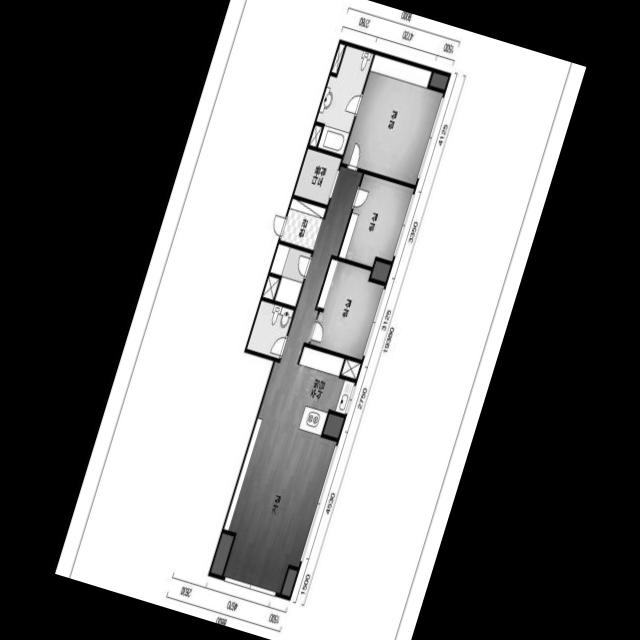background: (54, 0, 586, 640)
space_bedroom: (342, 54, 443, 184), (309, 258, 384, 359), (339, 173, 414, 266)
space_front: (280, 198, 326, 250)
space_kitchen: (279, 346, 354, 435)
space_living_room: (223, 166, 362, 593)
space_multipurpose_space: (294, 148, 341, 204)
space_other: (270, 243, 311, 306), (331, 43, 345, 73), (262, 275, 279, 299), (341, 358, 361, 378), (309, 124, 322, 146)
space_toilet: (316, 45, 373, 154), (247, 300, 294, 358)
